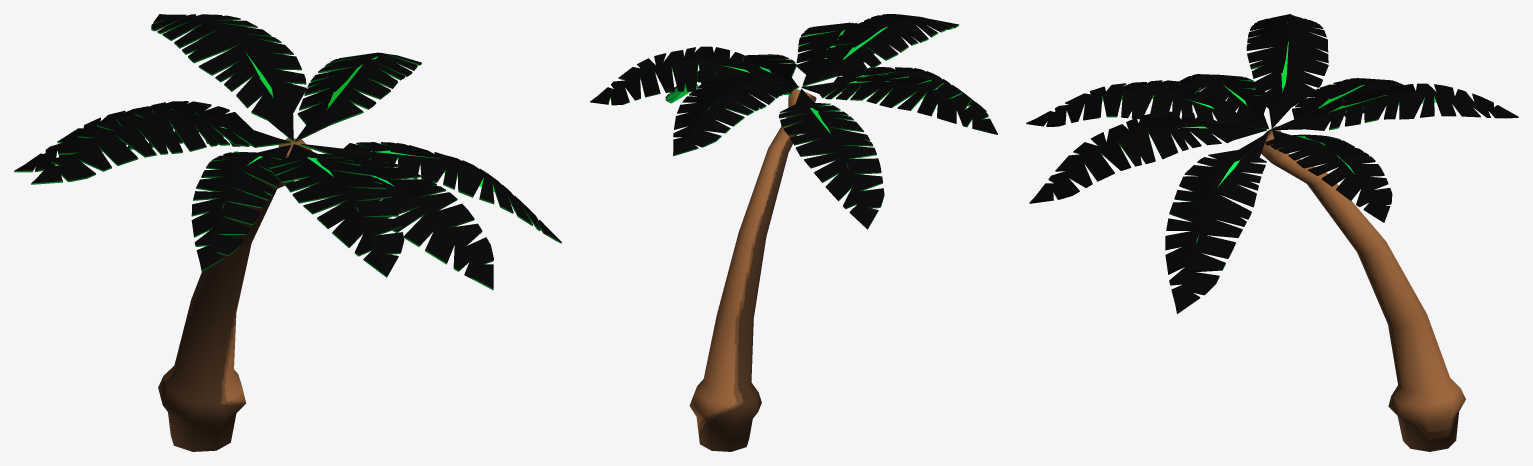
File: palm_tree_2.fbx
3 views of the same model, side by side, from view 1: azimuth 30°, elevation 25°; view 2: azimuth 150°, elevation 25°; view 3: azimuth 270°, elevation 25° (orthographic). The views are drawn at different scales.
Visible parts, largest first — view 1: final_2; view 2: final_2; view 3: final_2.
Part boxes in pixels (bbox=[...]): final_2: bbox=[14, 14, 561, 451]; final_2: bbox=[590, 14, 997, 451]; final_2: bbox=[1026, 14, 1518, 451].
Bounding box in the file's own units: 1.13 × 0.8988 × 1.05.
1 material, 1 textured.
